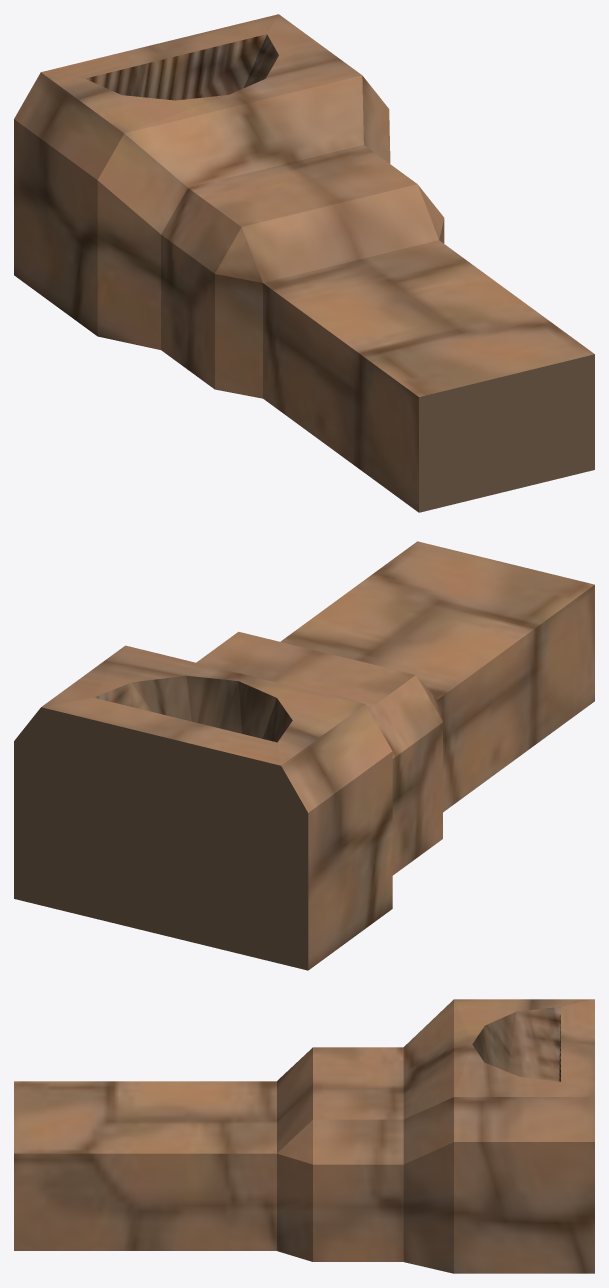
Rendered from stove.obj.
3 views of the same model, one above another, from view 1: azimuth 30°, elevation 25°; view 2: azimuth 150°, elevation 25°; view 3: azimuth 270°, elevation 25° (orthographic). The views are drawn at different scales.
Bounding box in the file's own units: 9.59 × 6.26 × 19.64.
1 material, 1 textured.
